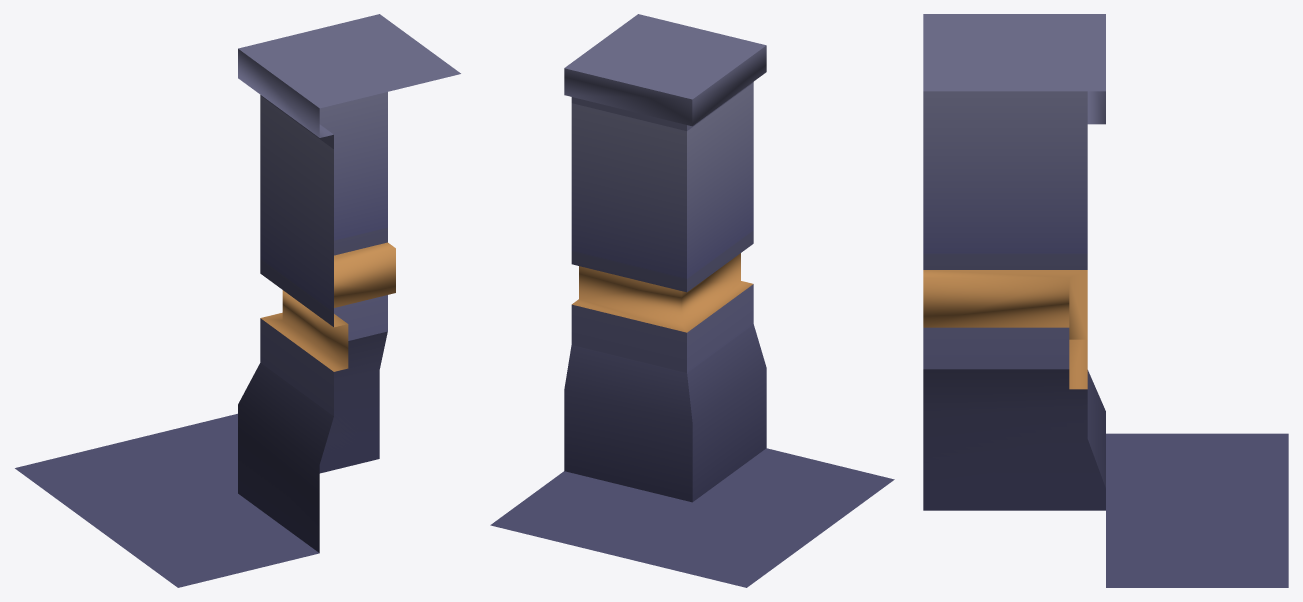
File: structure-corner-outer.glb
3 renders of one model, left to right at view 1: azimuth 30°, elevation 25°; view 2: azimuth 150°, elevation 25°; view 3: azimuth 270°, elevation 25°, orthographic. The views are drawn at different scales.
Visible parts, largest first — view 1: structure-corner-outer; view 2: structure-corner-outer; view 3: structure-corner-outer.
Boxes of the visible parts, x1,y1,x2,y2 form: structure-corner-outer: (15,14,460,587); structure-corner-outer: (490,14,894,587); structure-corner-outer: (923,14,1288,587).
Bounding box in the file's own units: 2 × 3 × 2.
